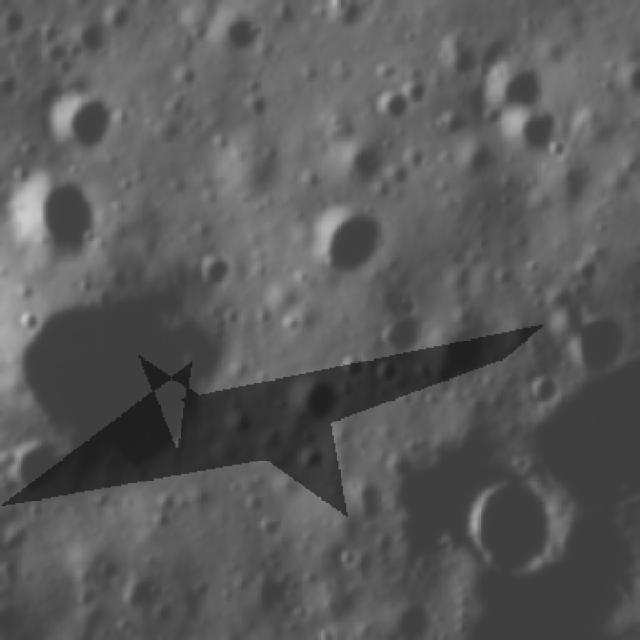crater: (18, 278, 233, 464), (465, 461, 570, 574), (13, 175, 110, 260), (48, 86, 130, 160), (312, 209, 392, 282), (567, 304, 630, 376), (7, 431, 75, 495), (510, 104, 559, 167), (377, 299, 429, 358), (288, 376, 344, 424), (387, 595, 445, 640), (192, 247, 242, 293), (215, 18, 268, 58), (496, 62, 544, 106), (519, 368, 564, 414), (69, 18, 113, 62), (373, 86, 415, 128), (344, 145, 379, 189), (101, 3, 145, 35), (328, 352, 368, 380), (617, 56, 640, 104), (368, 352, 395, 386), (189, 0, 241, 12), (67, 0, 102, 11)
